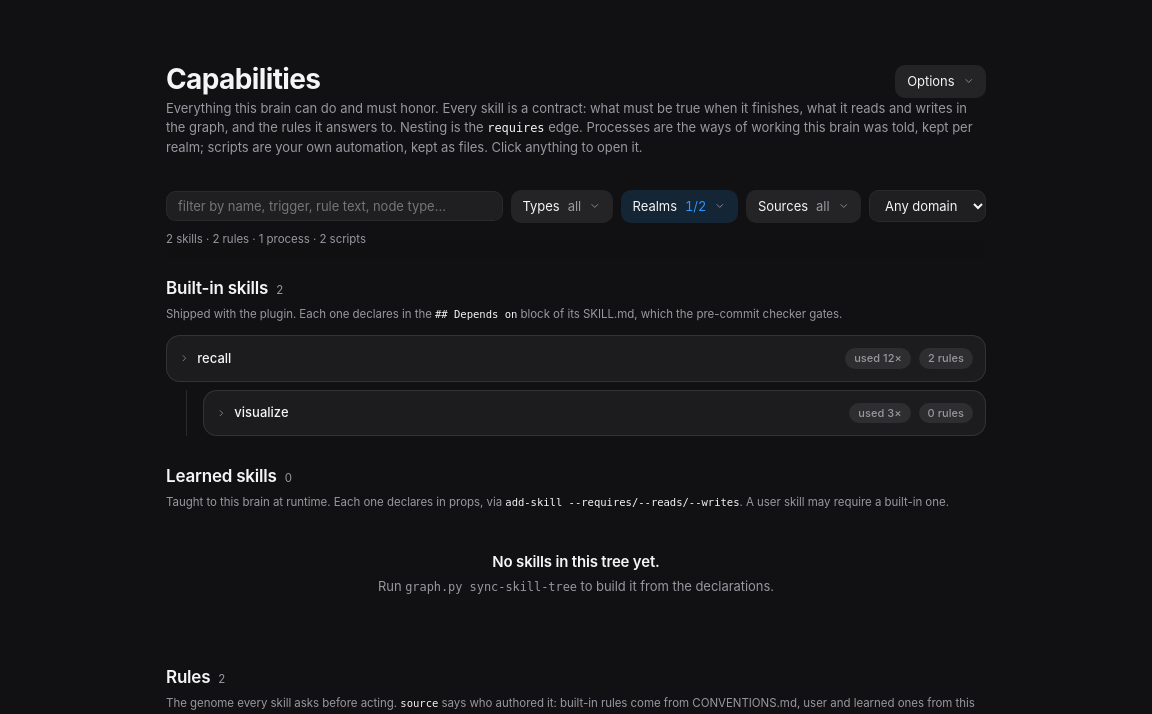
Test: Capabilities › shows the neighbours one level deep, from the same endpoint the dashboard uses
Click the button "recall used 12× 2 rules" at (214,358), box [179,336,973,381]
(page scrolled)
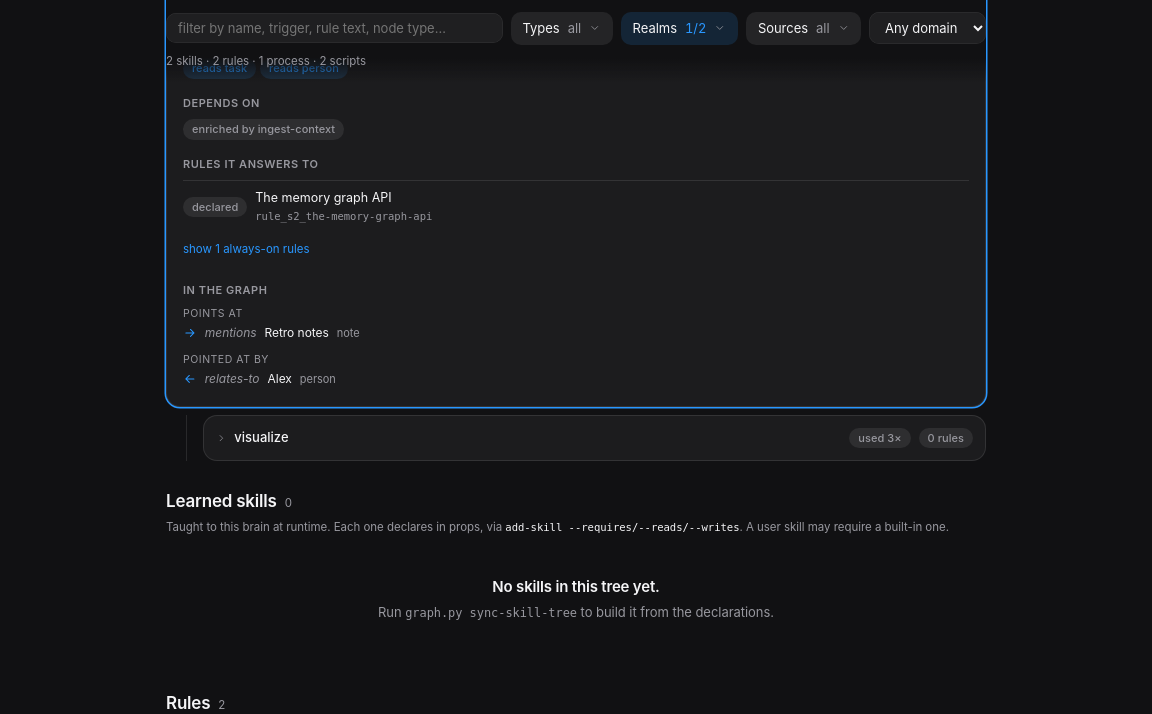
Now the text "Points at" is shown, box [183,308,243,320]
Now the text "Pointed at by" is shown, box [183,353,269,366]
